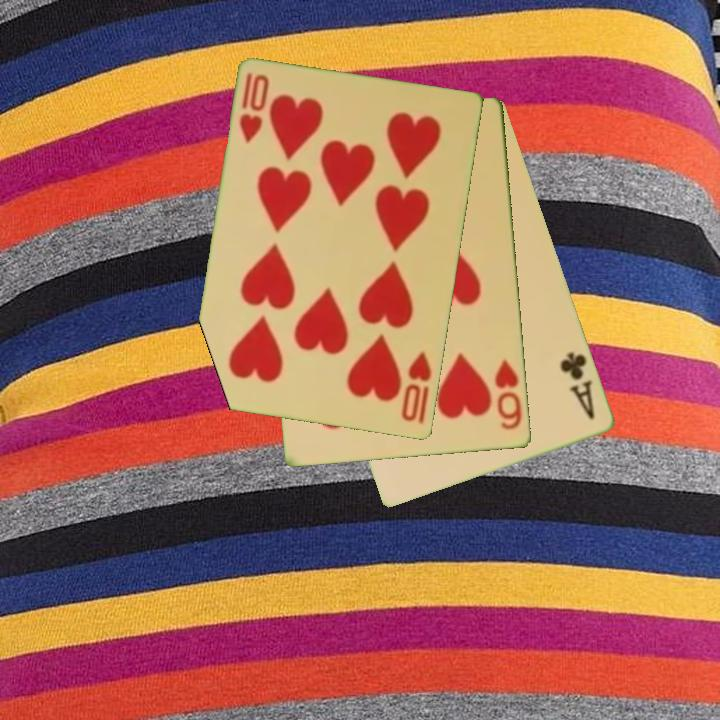10h: (398, 348, 435, 427), (236, 69, 273, 146)
6h: (492, 356, 525, 433)
Ac: (557, 349, 598, 424)
